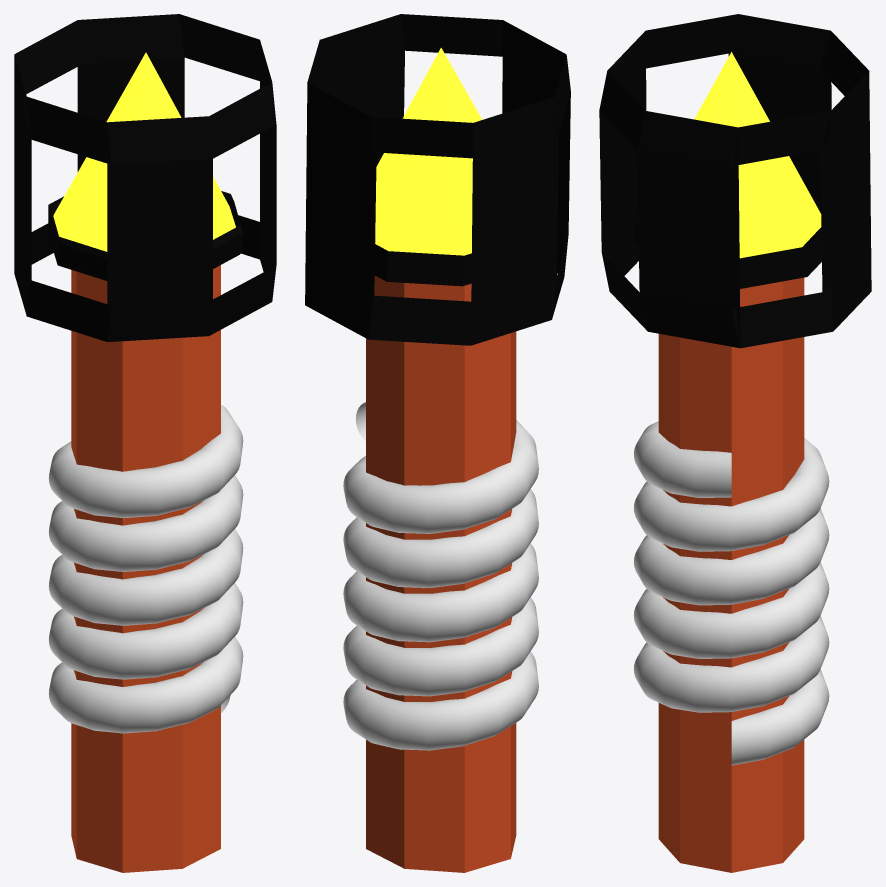
Rendered from torch.fbx.
3 views of the same model, side by side, from view 1: azimuth 30°, elevation 25°; view 2: azimuth 150°, elevation 25°; view 3: azimuth 270°, elevation 25° (orthographic).
Parts seen in each view (by area): view 1: Circle.001, Circle, Cylinder, Cone; view 2: Circle.001, Circle, Cylinder, Cone; view 3: Circle.001, Circle, Cylinder, Cone.
Part boxes in pixels (bbox=[...]): Circle.001: bbox=[14, 14, 276, 342]; Circle: bbox=[48, 405, 243, 733]; Cylinder: bbox=[71, 265, 220, 872]; Cone: bbox=[53, 52, 235, 251]; Circle.001: bbox=[305, 14, 570, 345]; Circle: bbox=[343, 402, 538, 750]; Cylinder: bbox=[366, 275, 516, 872]; Cone: bbox=[375, 47, 481, 255]; Circle.001: bbox=[599, 14, 871, 348]; Circle: bbox=[633, 421, 829, 765]; Cylinder: bbox=[658, 277, 804, 872]; Cone: bbox=[694, 52, 821, 258].
Bounding box in the file's own units: 33.43 × 108 × 33.74.
